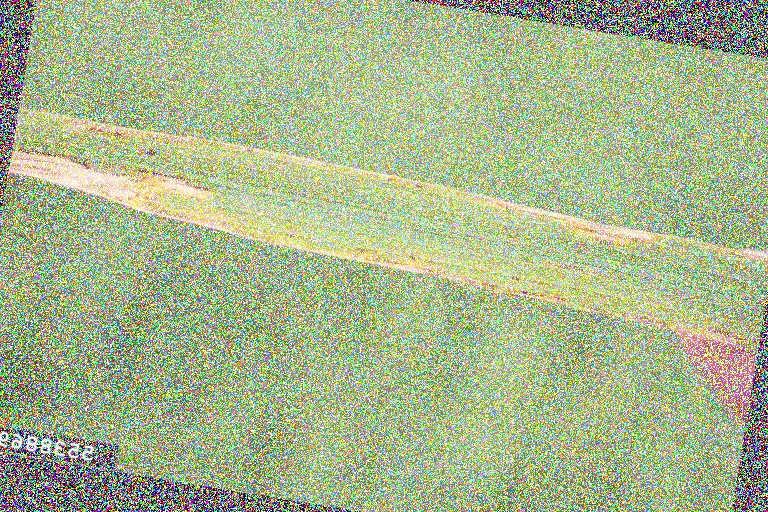Leaf_Blast: (18, 162, 768, 256)
